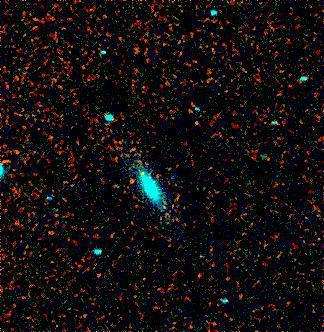star: (179, 109, 209, 139)
